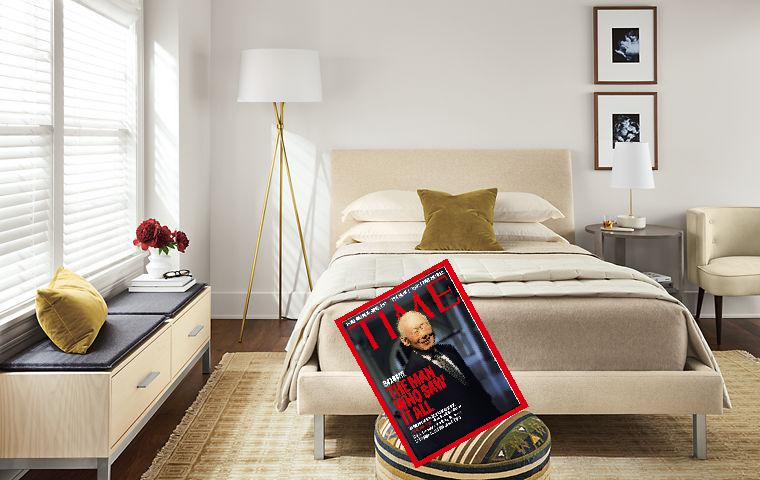times: (331, 257, 536, 468)
